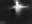person: (9, 1, 29, 17)
